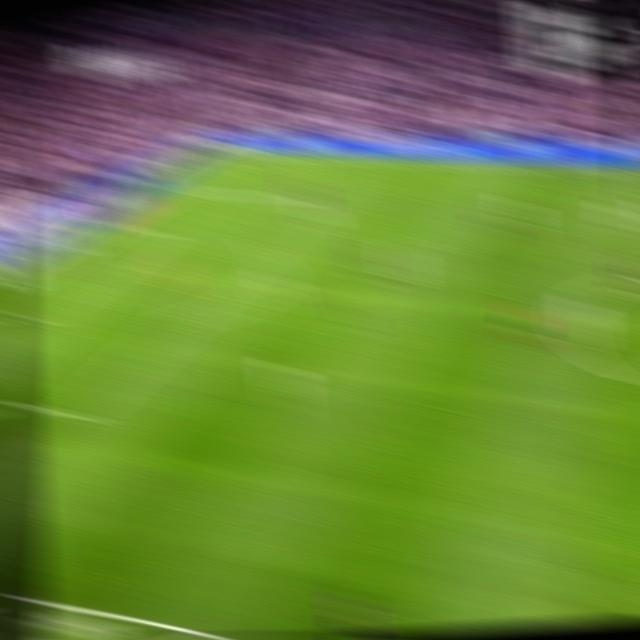bigarea_bottom_inner: (61, 397, 95, 430)
bigarea_top_inner: (297, 192, 325, 208)
bigarea_top_outter: (152, 179, 180, 195)
bottom_arc_area_intersection: (166, 309, 196, 330)
corner: (207, 145, 237, 159)
smallarea_bottom_inner: (18, 305, 49, 327)
smallarea_top_inner: (142, 222, 170, 238)
top_arc_area_intersection: (245, 238, 275, 256)
